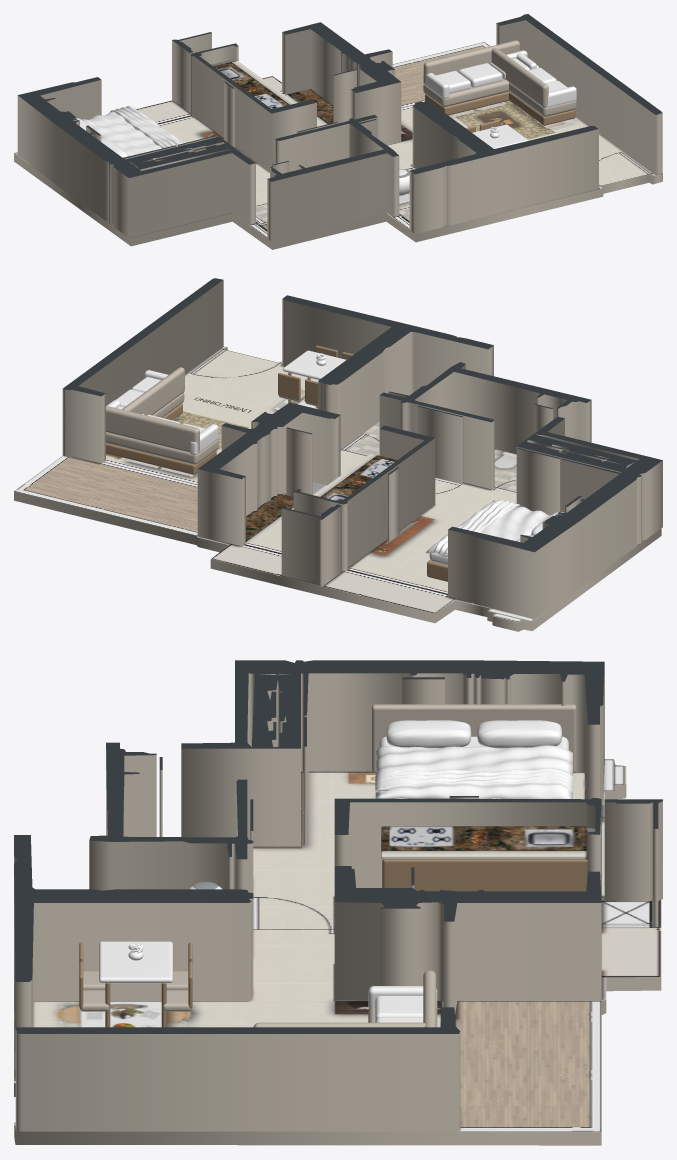
3 views of the same model, one above another, from view 1: azimuth 30°, elevation 25°; view 2: azimuth 150°, elevation 25°; view 3: azimuth 270°, elevation 25° (orthographic). The views are drawn at different scales.
Parts seen in each view (by area): view 1: Partition walls, Apartment floor, Draped bed linen, Stone worktop, Sofa back.001, Sofa back, Upholstered sofa frame.001, Draped bed linen.001, Sofa plinth.001, Marble dining top, Seat cushion.004, Upholstered sofa frame (+4 smaller); view 2: Partition walls, Apartment floor, Sofa back.001, Draped bed linen, Stone worktop, Sofa back, Upholstered sofa frame.001, Sofa plinth.001, Draped bed linen.001, Marble dining top, Chair back.003; view 3: Partition walls, Apartment floor, Draped bed linen, Stone worktop, Kitchen cabinets, Upholstered headboard, Draped bed linen.001, Marble dining top, Tailored pillow, Tailored pillow.001, Seat cushion.003, Sofa back (+2 smaller).
Part boxes in pixels (left/top/right/bottom): Partition walls: left=17, top=14, right=662, bottom=241; Apartment floor: left=14, top=42, right=662, bottom=249; Draped bed linen: left=81, top=107, right=183, bottom=156; Stone worktop: left=211, top=59, right=295, bottom=108; Sofa back.001: left=423, top=40, right=519, bottom=83; Sofa back: left=491, top=48, right=548, bottom=106; Upholstered sofa frame.001: left=423, top=79, right=509, bottom=106; Draped bed linen.001: left=110, top=106, right=180, bottom=148; Sofa plinth.001: left=425, top=91, right=509, bottom=115; Marble dining top: left=472, top=124, right=528, bottom=148; Seat cushion.004: left=458, top=63, right=502, bottom=87; Upholstered sofa frame: left=509, top=82, right=576, bottom=116; Partition walls: left=62, top=278, right=662, bottom=619; Apartment floor: left=14, top=346, right=661, bottom=631; Sofa back.001: left=106, top=405, right=199, bottom=452; Draped bed linen: left=426, top=500, right=551, bottom=556; Stone worktop: left=314, top=453, right=397, bottom=500; Sofa back: left=122, top=367, right=184, bottom=415; Upholstered sofa frame.001: left=106, top=432, right=218, bottom=464; Sofa plinth.001: left=106, top=443, right=216, bottom=474; Draped bed linen.001: left=432, top=500, right=521, bottom=554; Marble dining top: left=283, top=350, right=346, bottom=379; Chair back.003: left=278, top=373, right=300, bottom=400; Partition walls: left=14, top=660, right=662, bottom=1131; Apartment floor: left=14, top=759, right=661, bottom=1145; Draped bed linen: left=375, top=745, right=572, bottom=798; Stone worktop: left=381, top=826, right=595, bottom=859; Kitchen cabinets: left=382, top=859, right=587, bottom=891; Upholstered headboard: left=372, top=704, right=576, bottom=772; Draped bed linen.001: left=375, top=768, right=573, bottom=793; Marble dining top: left=99, top=941, right=172, bottom=983; Tailored pillow: left=386, top=720, right=471, bottom=748; Tailored pillow.001: left=477, top=720, right=562, bottom=748; Seat cushion.003: left=375, top=996, right=423, bottom=1021; Sofa back: left=253, top=1022, right=425, bottom=1027.
Size of the model in its own units: 9.33 by 1.3 by 6.85.
10 materials, 1 textured.
